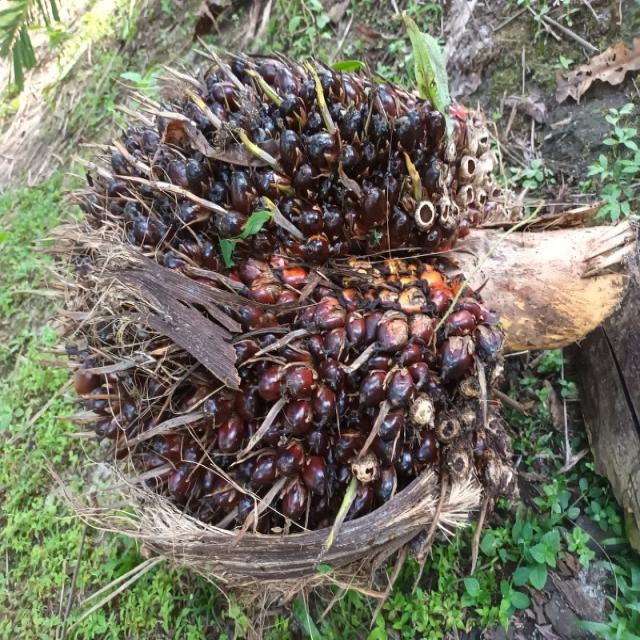fraksi 00: (64, 44, 587, 527)
